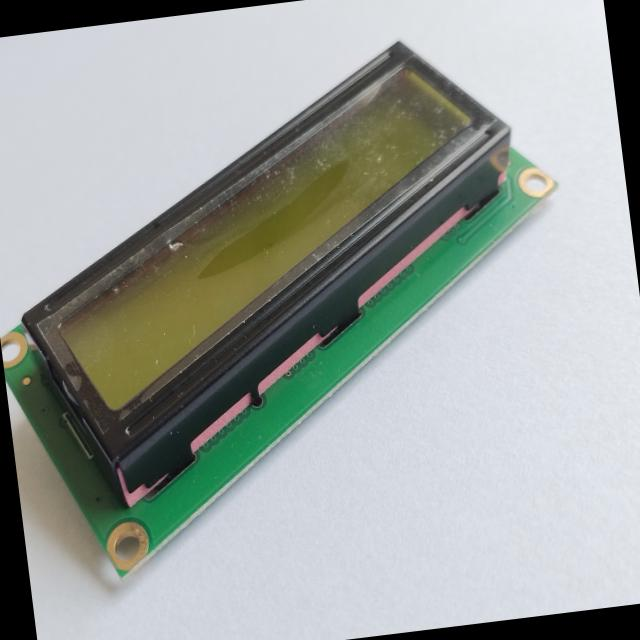lcd: (0, 3, 622, 602)
